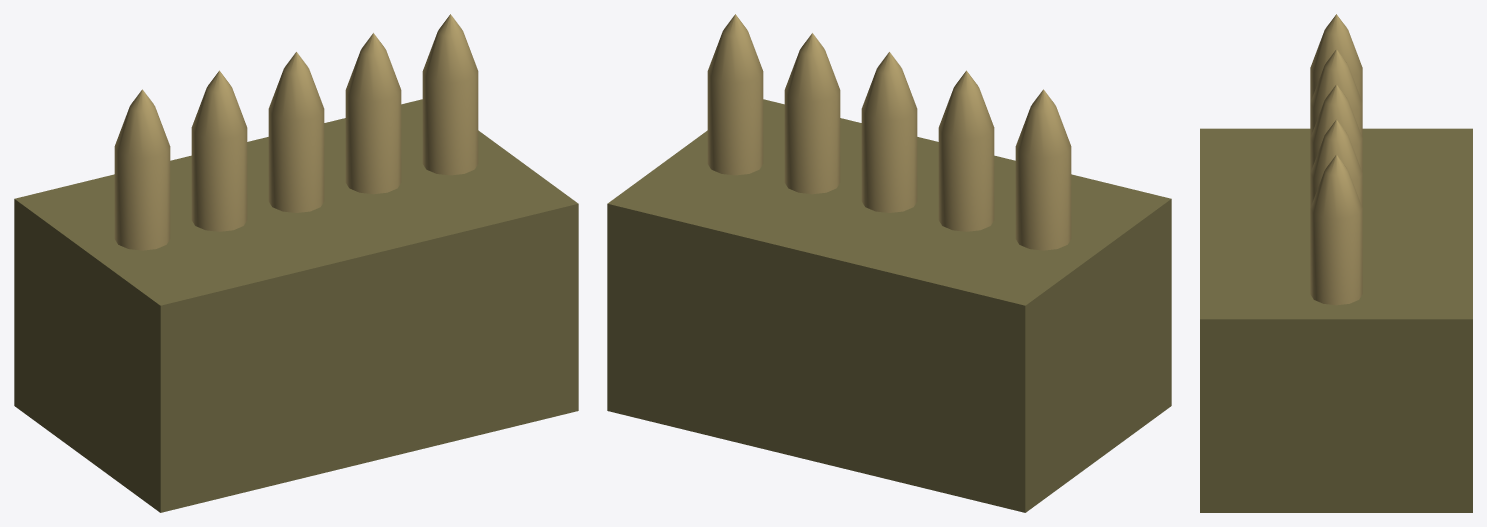
The model's file is ammo.glb.
3 renders of one model, left to right at view 1: azimuth 30°, elevation 25°; view 2: azimuth 150°, elevation 25°; view 3: azimuth 270°, elevation 25°, orthographic. The views are drawn at different scales.
Bounding box in the file's own units: 0.38 × 0.31 × 0.23.
